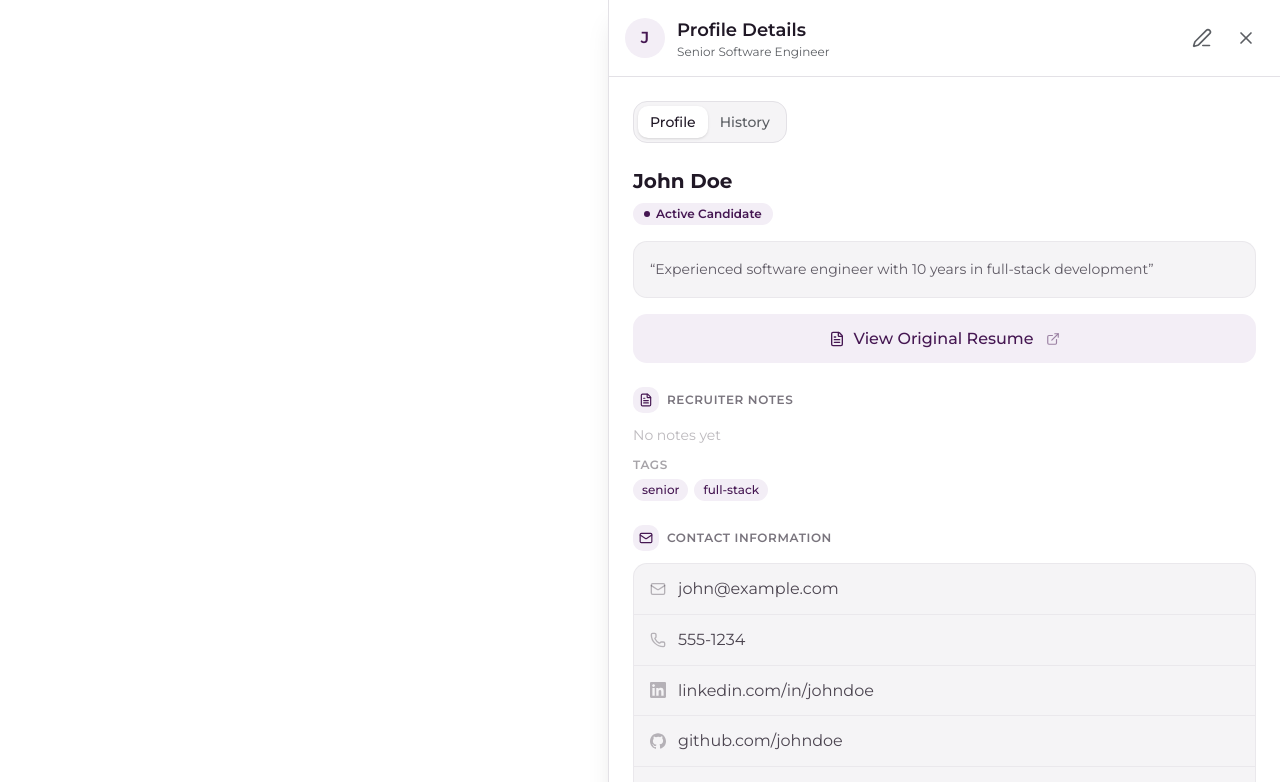
Test: ProfileDetailPanel › Edit mode functionality › shows number inputs for years and salary in edit mode
Click the button named "edit" at (1202, 38), box [1184,20,1220,56]
(page scrolled)
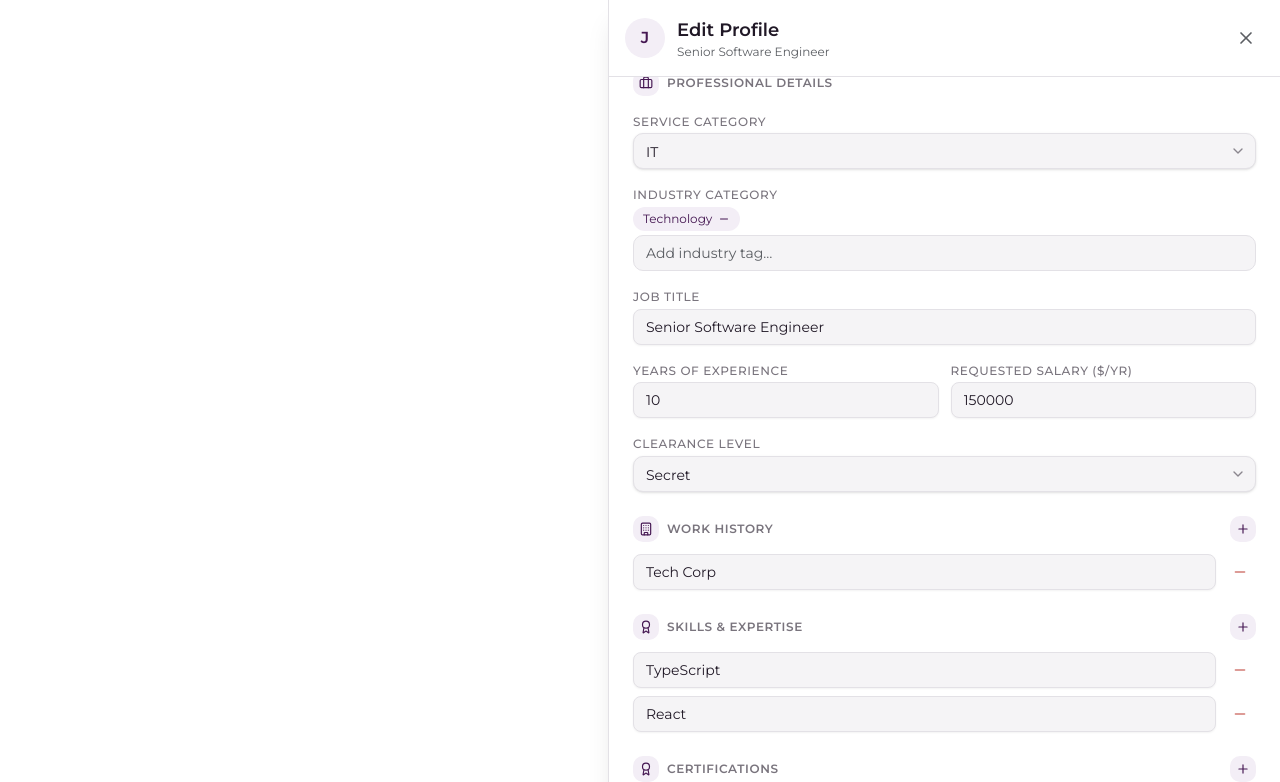
Now the number field below "Years of Experience" is shown, box [633,382,938,418]
